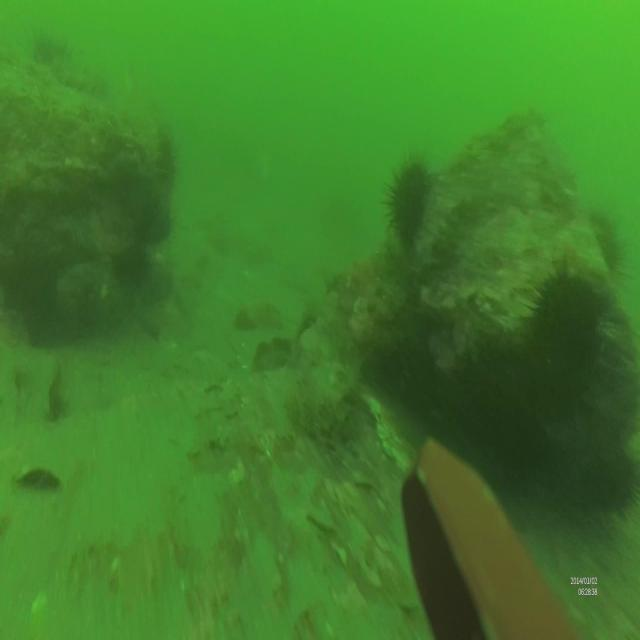echinus: (525, 260, 615, 406), (380, 148, 441, 252), (584, 209, 636, 297)
